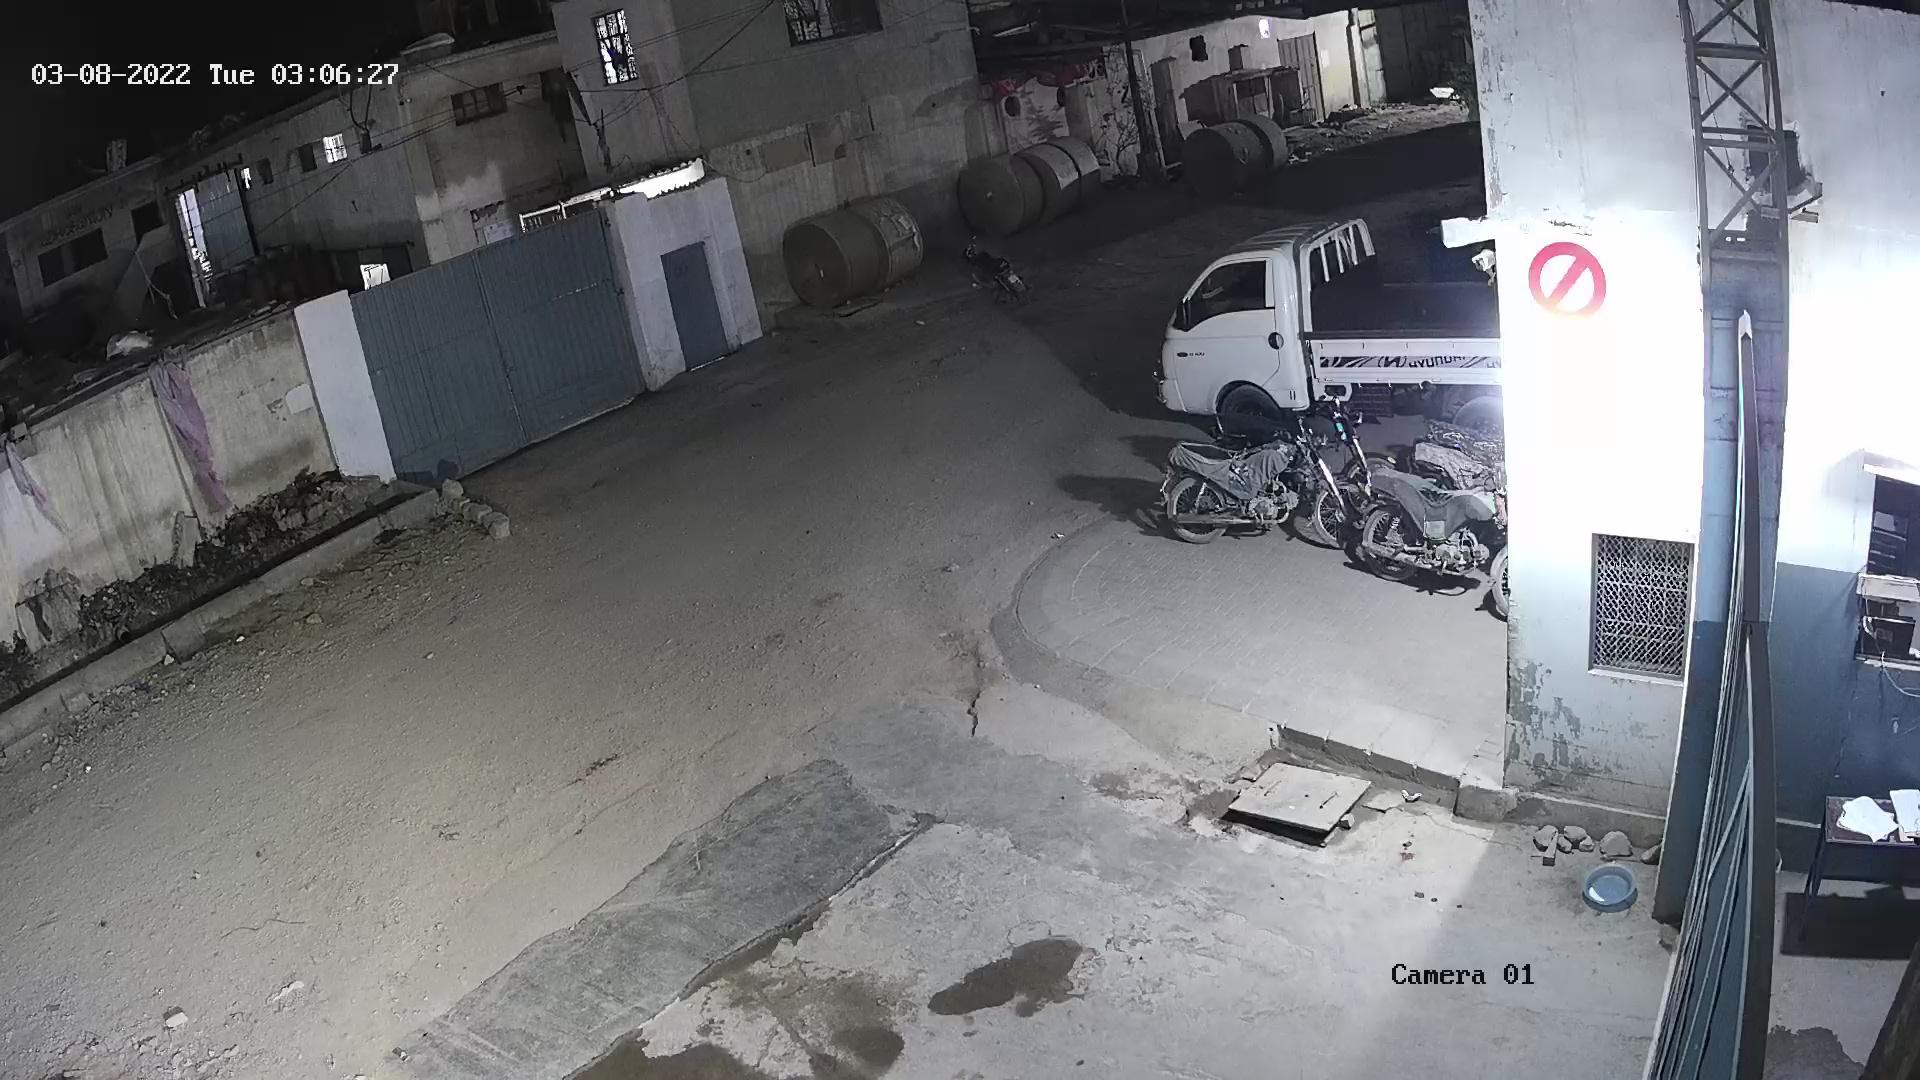Ltv: (1158, 219, 1497, 433)
bike: (1354, 455, 1513, 618), (1162, 415, 1341, 554), (1200, 397, 1398, 516), (1410, 436, 1506, 504), (960, 236, 1029, 305), (1428, 418, 1503, 467)
